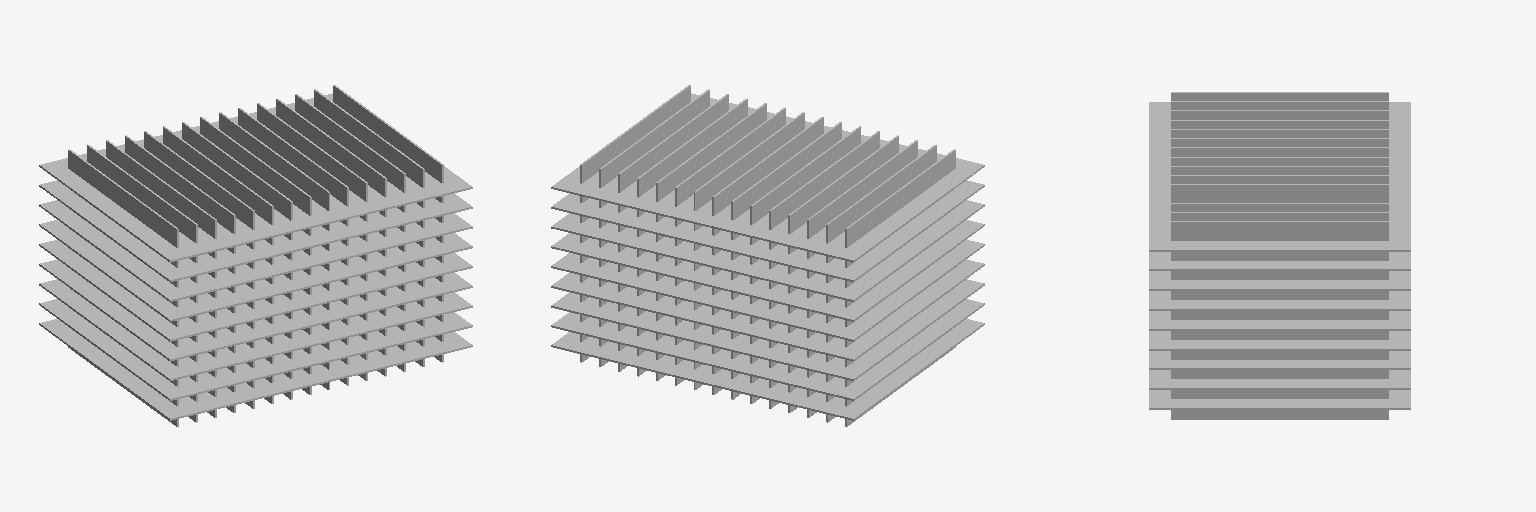
Rendered from b_Inner.obj.
3 renders of one model, left to right at view 1: azimuth 30°, elevation 25°; view 2: azimuth 150°, elevation 25°; view 3: azimuth 270°, elevation 25°, orthographic.
Parts seen in each view (by area): view 1: pCube59; view 2: pCube59; view 3: pCube59.
Boxes of the visible parts, x1=… form: pCube59: x1=39, y1=85, x2=472, y2=426; pCube59: x1=551, y1=85, x2=984, y2=426; pCube59: x1=1149, y1=92, x2=1410, y2=419.
Size of the model in its own units: 8 by 5 by 6.